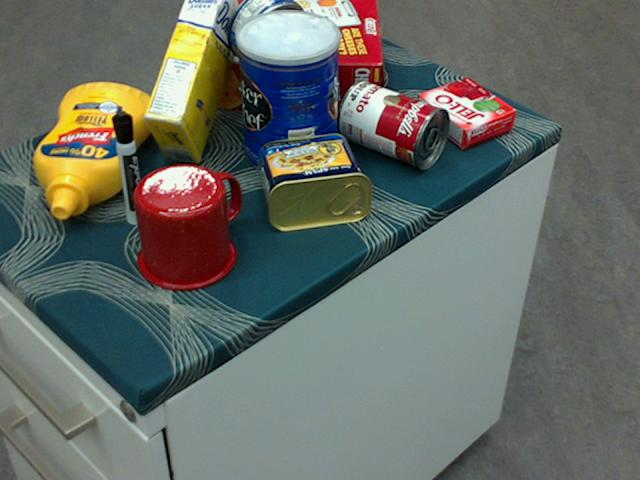cracker_box: (189, 0, 381, 111)
gelatin_box: (415, 78, 515, 147)
large_marker: (110, 111, 146, 223)
master_chef_can: (235, 9, 339, 178)
mug: (134, 162, 242, 289)
mustard_bottle: (33, 83, 153, 218)
potted_meat_can: (255, 130, 372, 232)
sugar_box: (143, 0, 244, 164)
tomato_soup_can: (337, 80, 450, 169)
tuna_fish_can: (227, 0, 307, 70)
